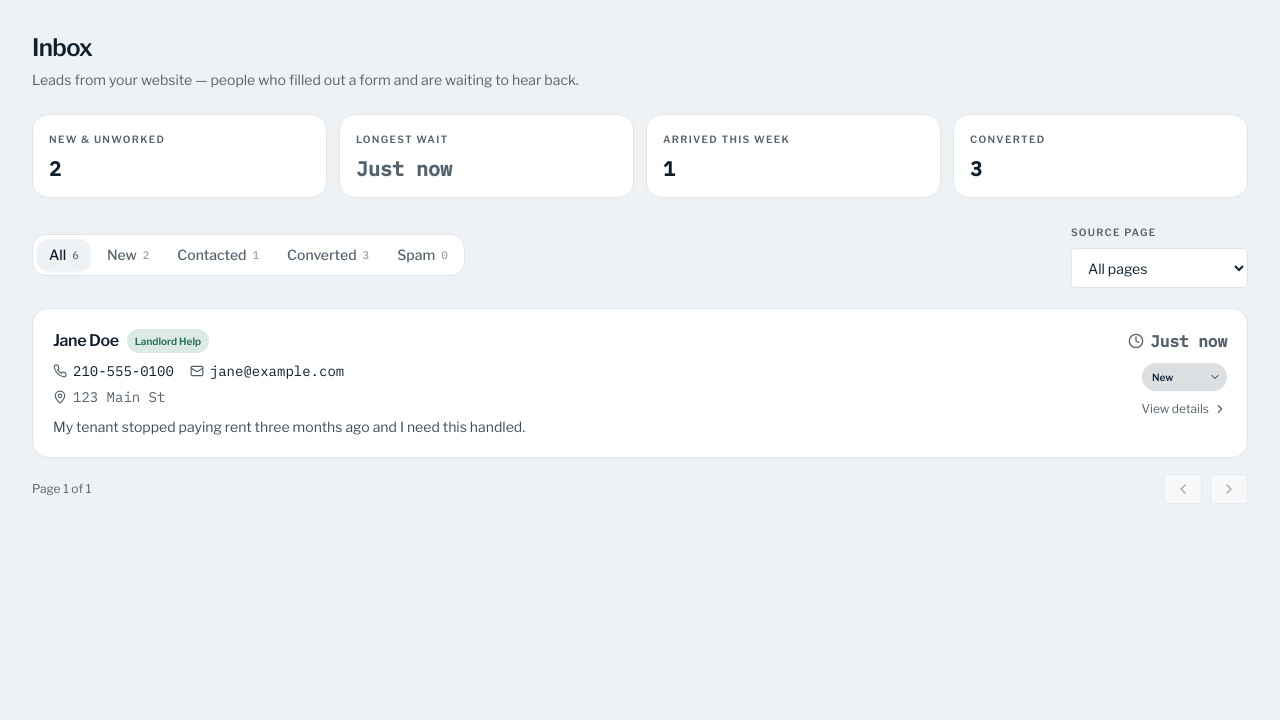
Test: InboxView empty states › distinguishes a filter excluding everything from a truly empty inbox, and can clear it
This screenshot has width=1280, height=720.
Expected: the heading "Jane Doe" is shown, [53,331,119,351]
Filtering by source page excludes the only submission.
Select "Landlord Help" in the dropdown labelled "SOURCE PAGE": (1160, 268) [1071,248,1248,288]
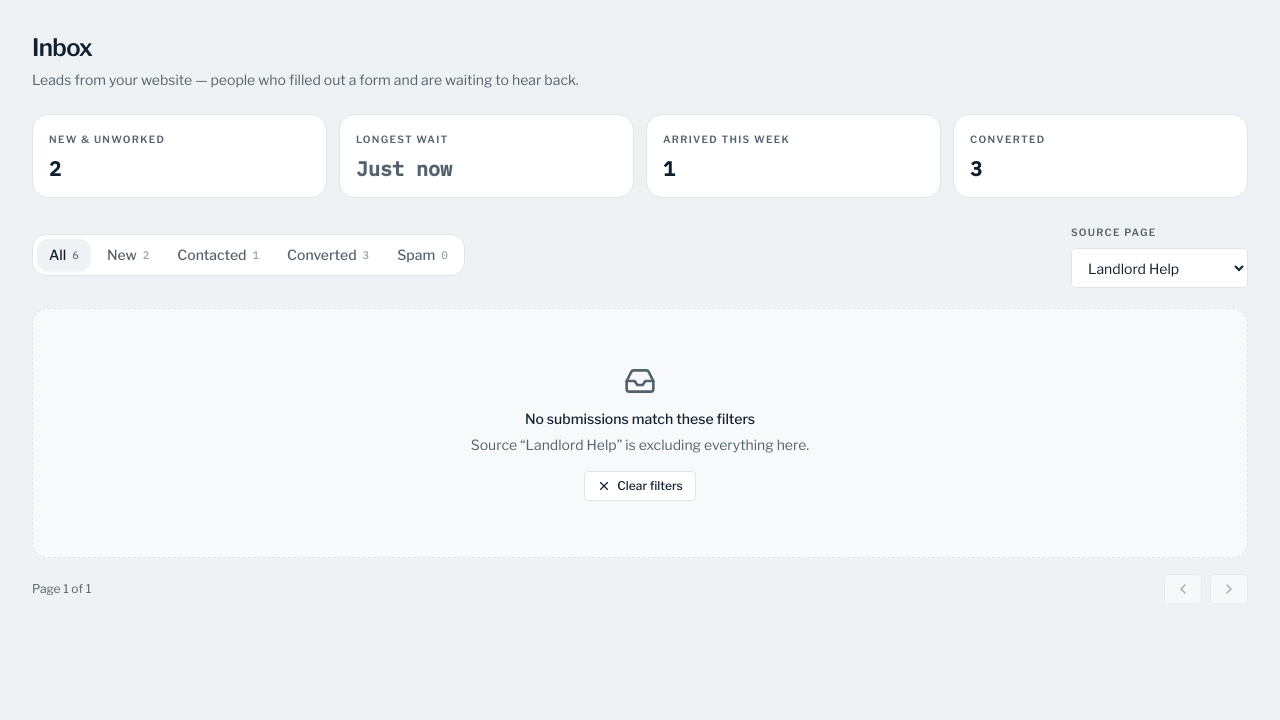
Now the text "No submissions match these filters" is shown, box [525,410,755,427]
Now the text "Source “Landlord Help” is excluding everything here." is shown, box [471,436,809,453]
Clearing the filter brings the row back.
Click the button "Clear filters": (640, 486) [584,471,696,501]
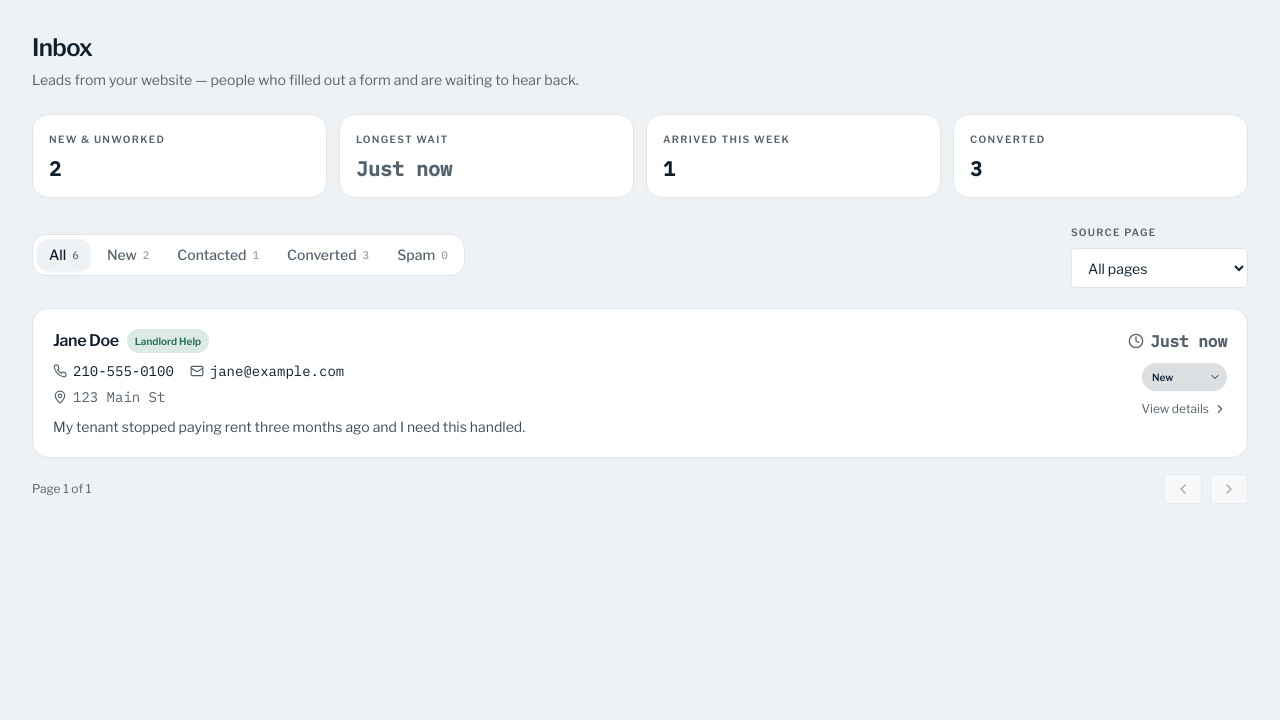
Now the heading "Jane Doe" is shown, box [53,331,119,351]
